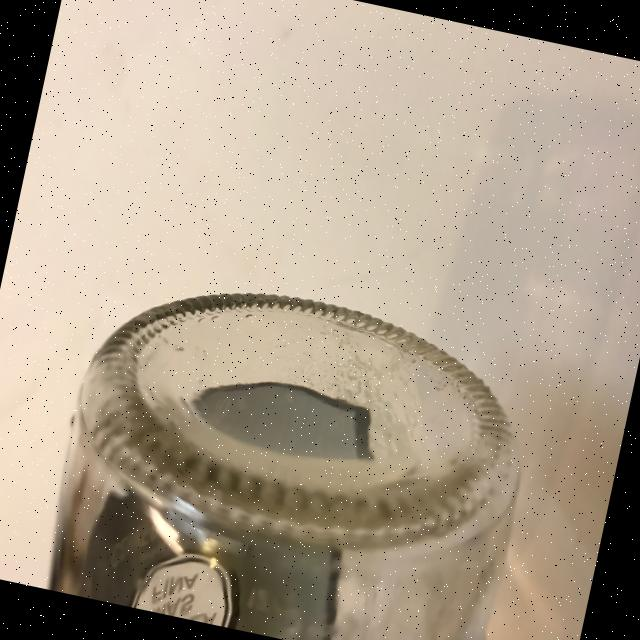glass: (38, 256, 542, 640)
